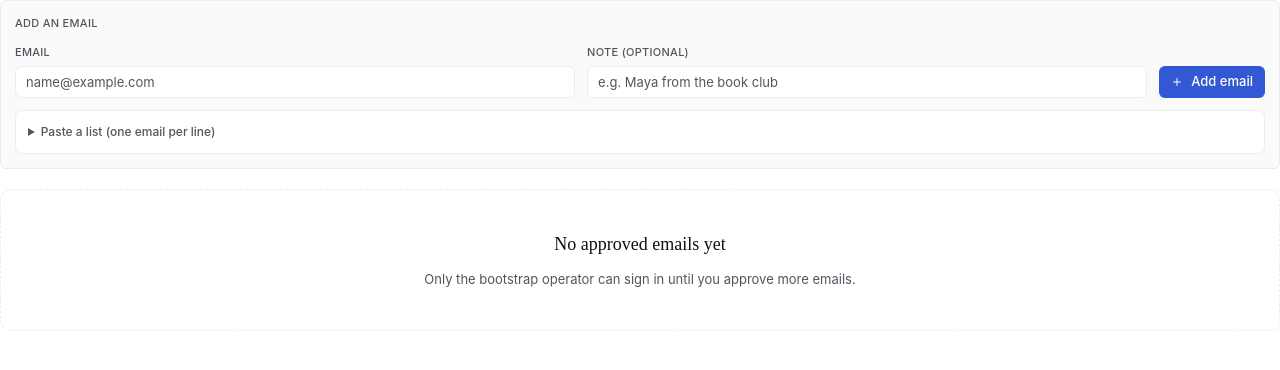
Test: ApprovedEmailsTab single-row add › binds a thrown server error onto the email field
Type "dupe@example.com" into the field labelled "Email". click: (295, 82)
box: left=15, top=66, right=575, bottom=98
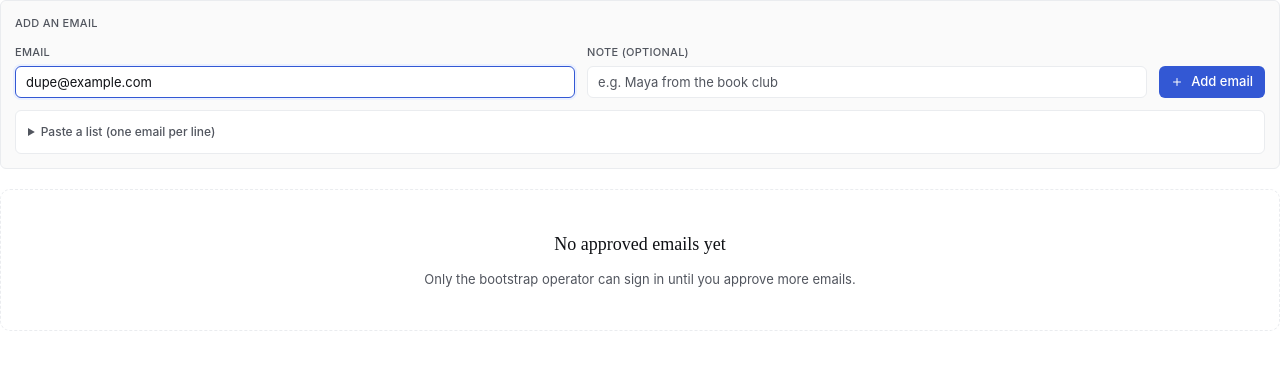
Click the button "Add email". click: (1212, 82)
box: left=1159, top=66, right=1265, bottom=98
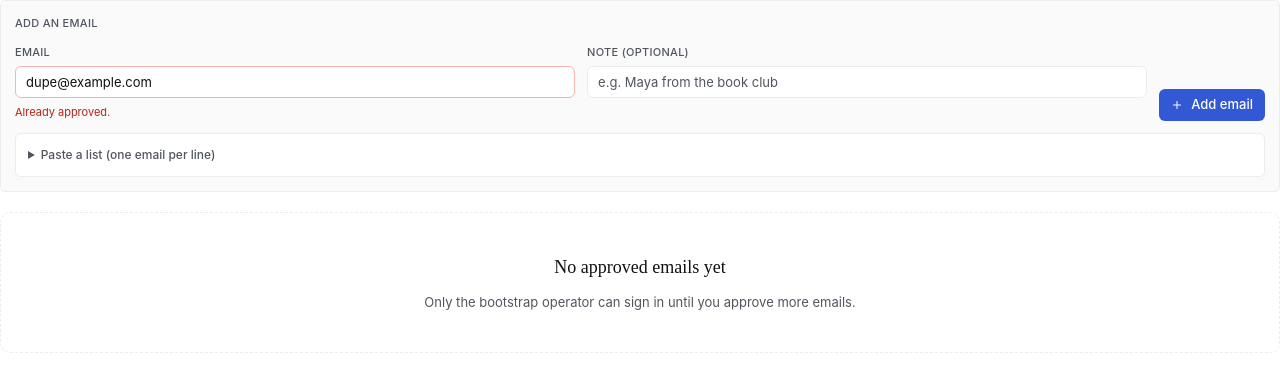
Check: the text "Already approved." is shown, box left=15, top=105, right=110, bottom=119
